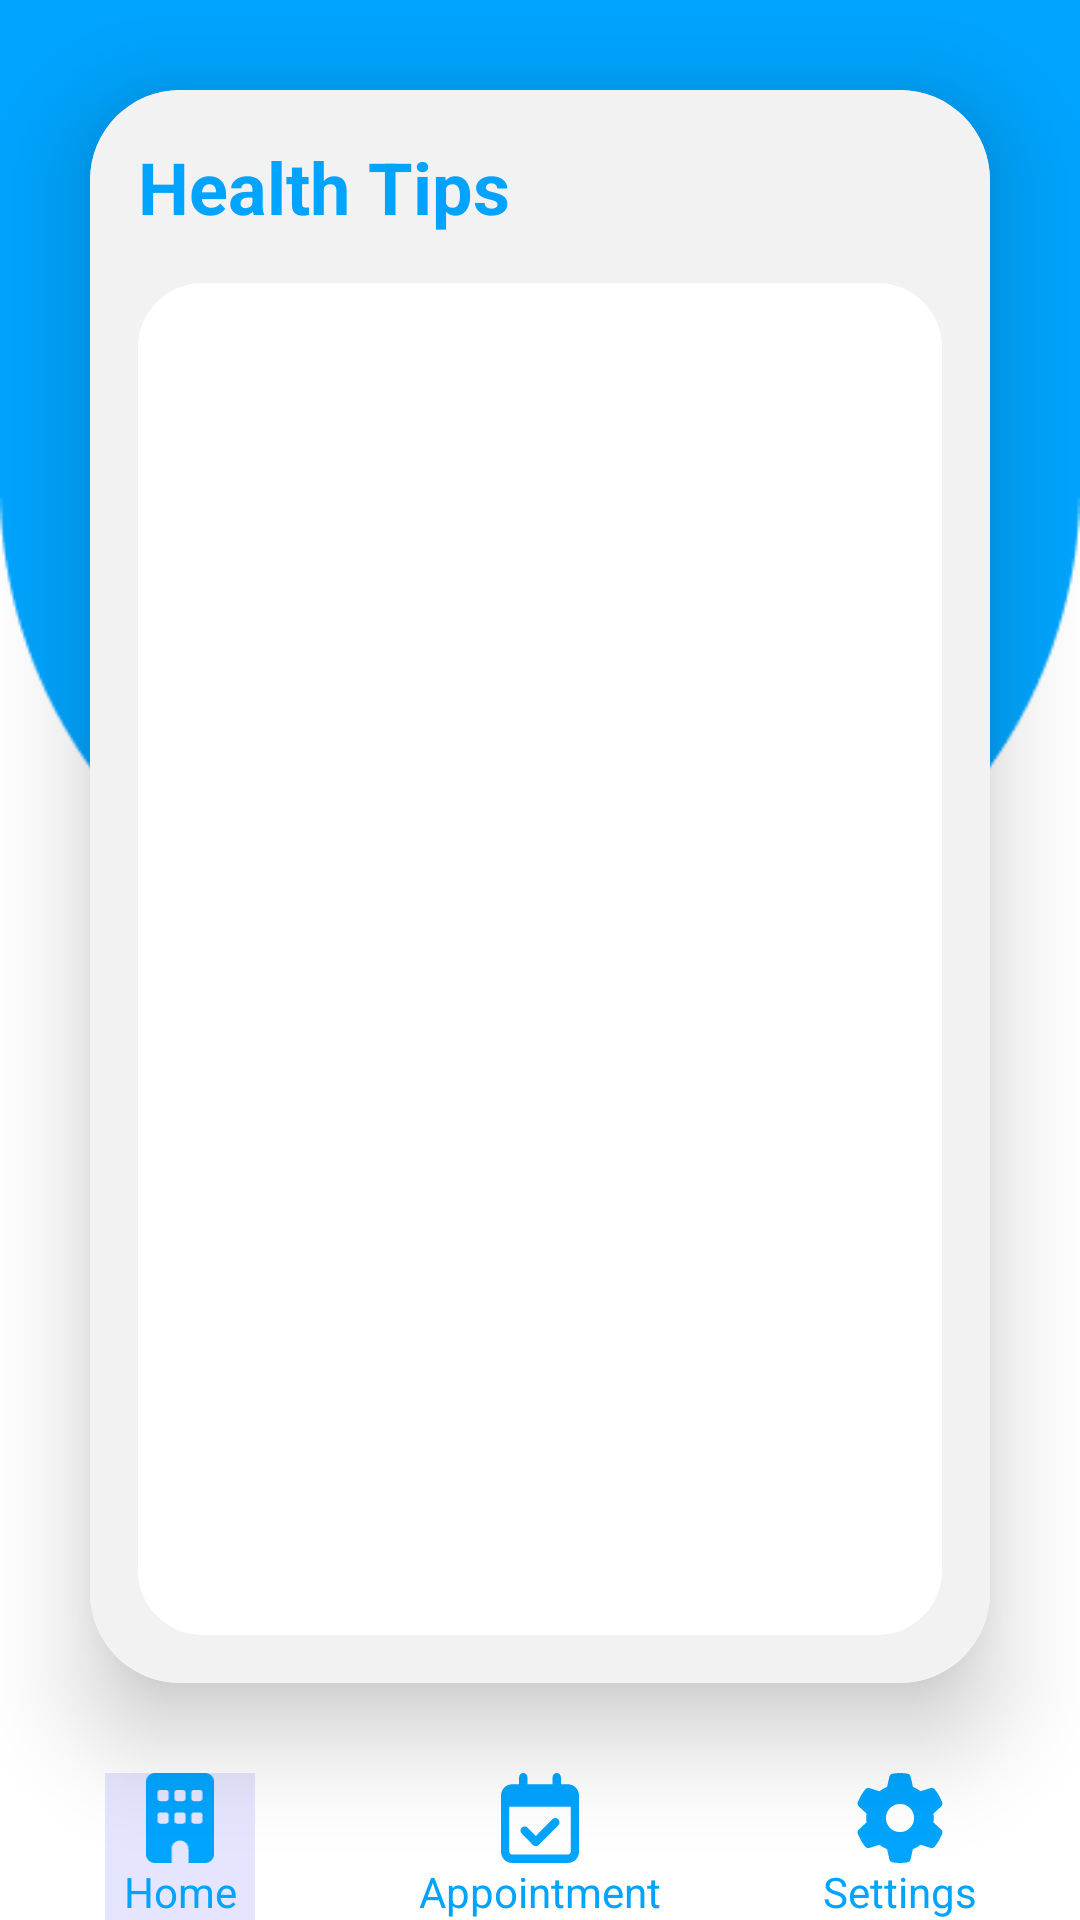

Locate icon controls on the screen. Image size 1080 × 1920, boxes as (x1, y1, x2, y2).
building: (144, 1773, 255, 1863)
calendar check: (501, 1773, 579, 1863)
gear: (857, 1773, 943, 1863)
